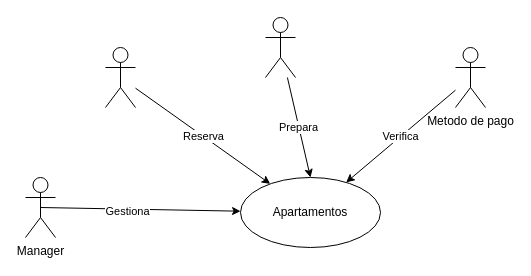
Image size: 531x276. Some labels were removed from this diagram. Each missing label, with the box of its shape:
Cliente: (104, 46, 136, 108)
Limpieza: (264, 16, 296, 78)
